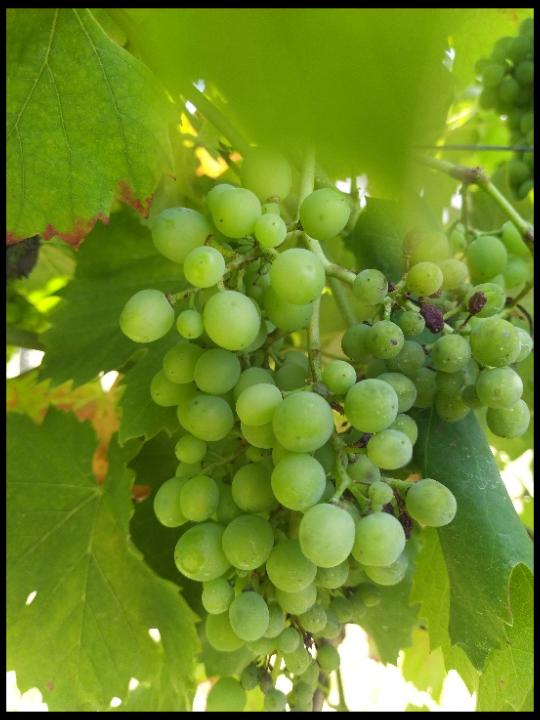grape: (113, 137, 527, 661)
